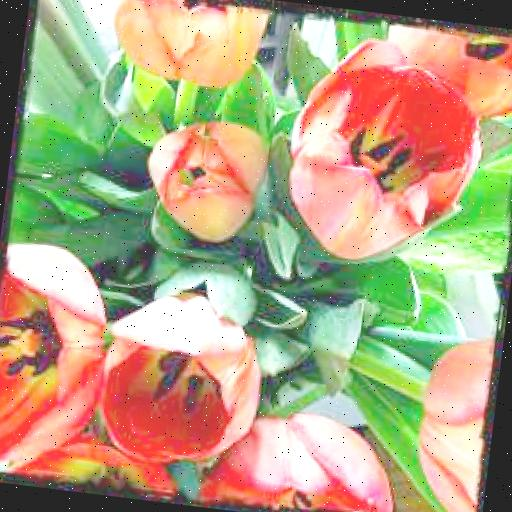tulip: (276, 36, 491, 273), (92, 282, 272, 474), (0, 242, 114, 476), (139, 112, 274, 246)
